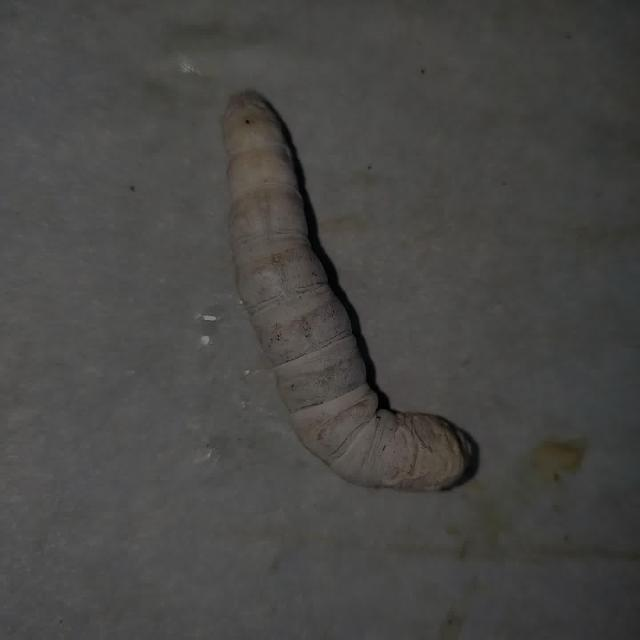Grasserie: (209, 74, 485, 508)
